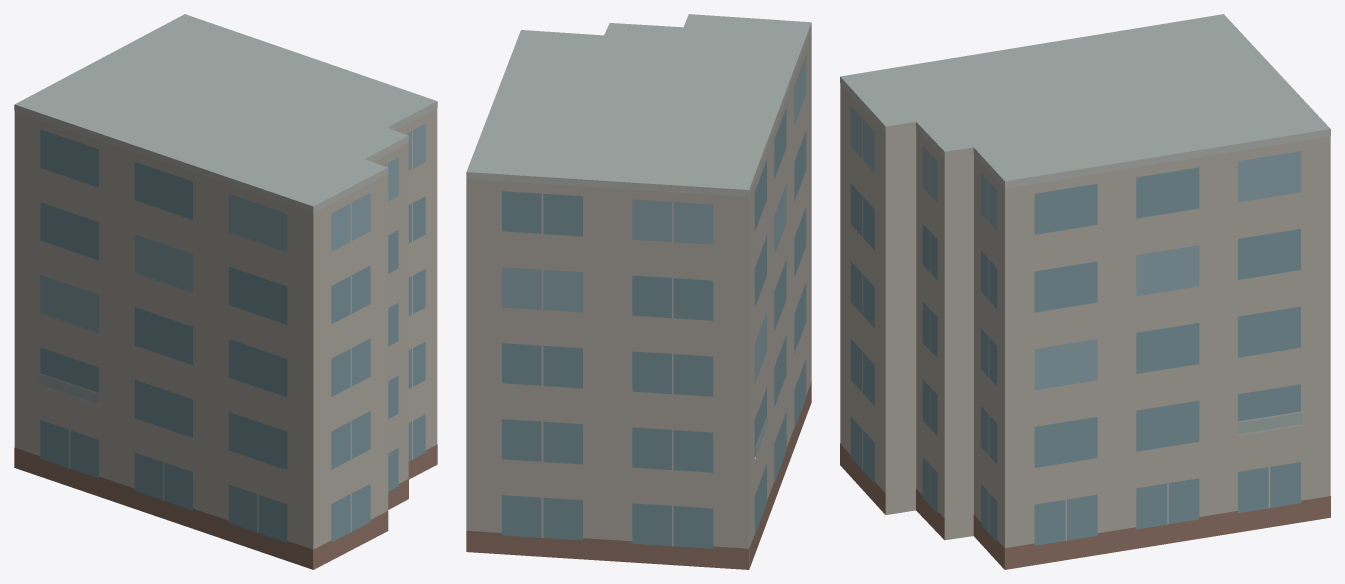
The model's file is survey-upis-32595348.glb.
The picture shows the model from 3 angles, left to right: view 1: azimuth 30°, elevation 25°; view 2: azimuth 150°, elevation 25°; view 3: azimuth 270°, elevation 25°; orthographic projection. The views are drawn at different scales.
Visible parts, largest first — view 1: survey-upis-32595348.tmp; view 2: survey-upis-32595348.tmp; view 3: survey-upis-32595348.tmp.
Boxes of the visible parts, x1,y1,x2,y2 form: survey-upis-32595348.tmp: (14, 14, 437, 569); survey-upis-32595348.tmp: (466, 14, 811, 569); survey-upis-32595348.tmp: (840, 14, 1330, 569).
Bounding box in the file's own units: 12.29 × 13.3 × 15.23.
